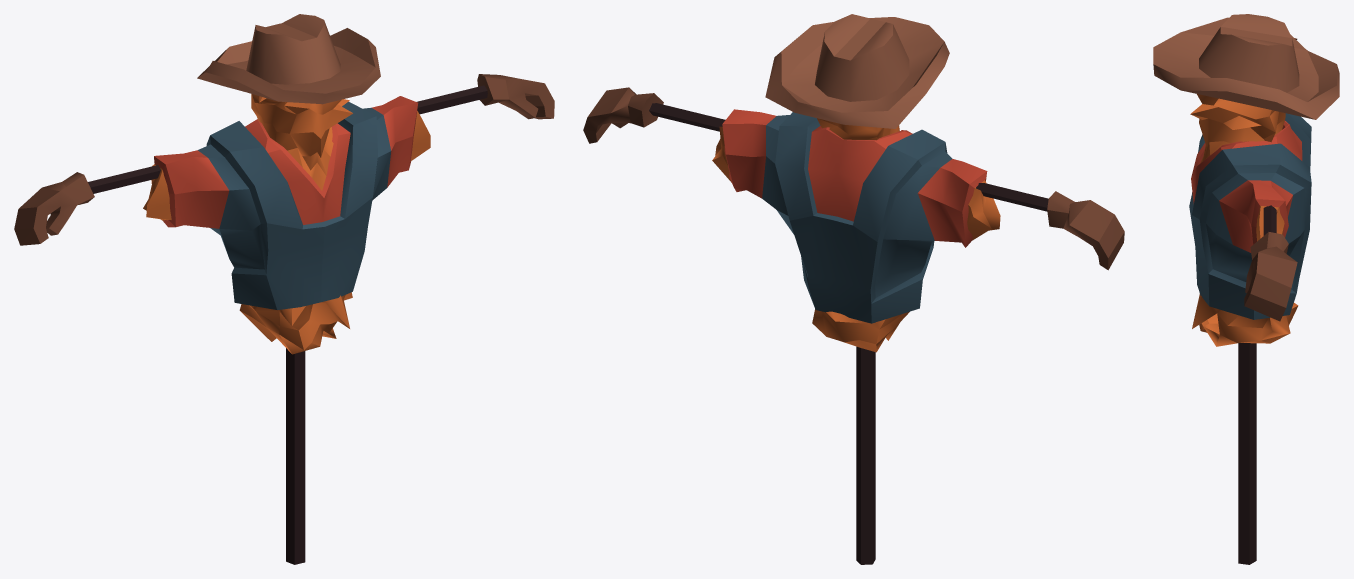
File: daocaoren.fbx
3 renders of one model, left to right at view 1: azimuth 30°, elevation 25°; view 2: azimuth 150°, elevation 25°; view 3: azimuth 270°, elevation 25°, orthographic.
Parts seen in each view (by area): view 1: daocaoren; view 2: daocaoren; view 3: daocaoren.
Part boxes in pixels (x1,y1,x2,y2): daocaoren: [14, 14, 554, 564]; daocaoren: [583, 14, 1124, 564]; daocaoren: [1153, 14, 1339, 564].
Bounding box in the file's own units: 569 × 555 × 175.
